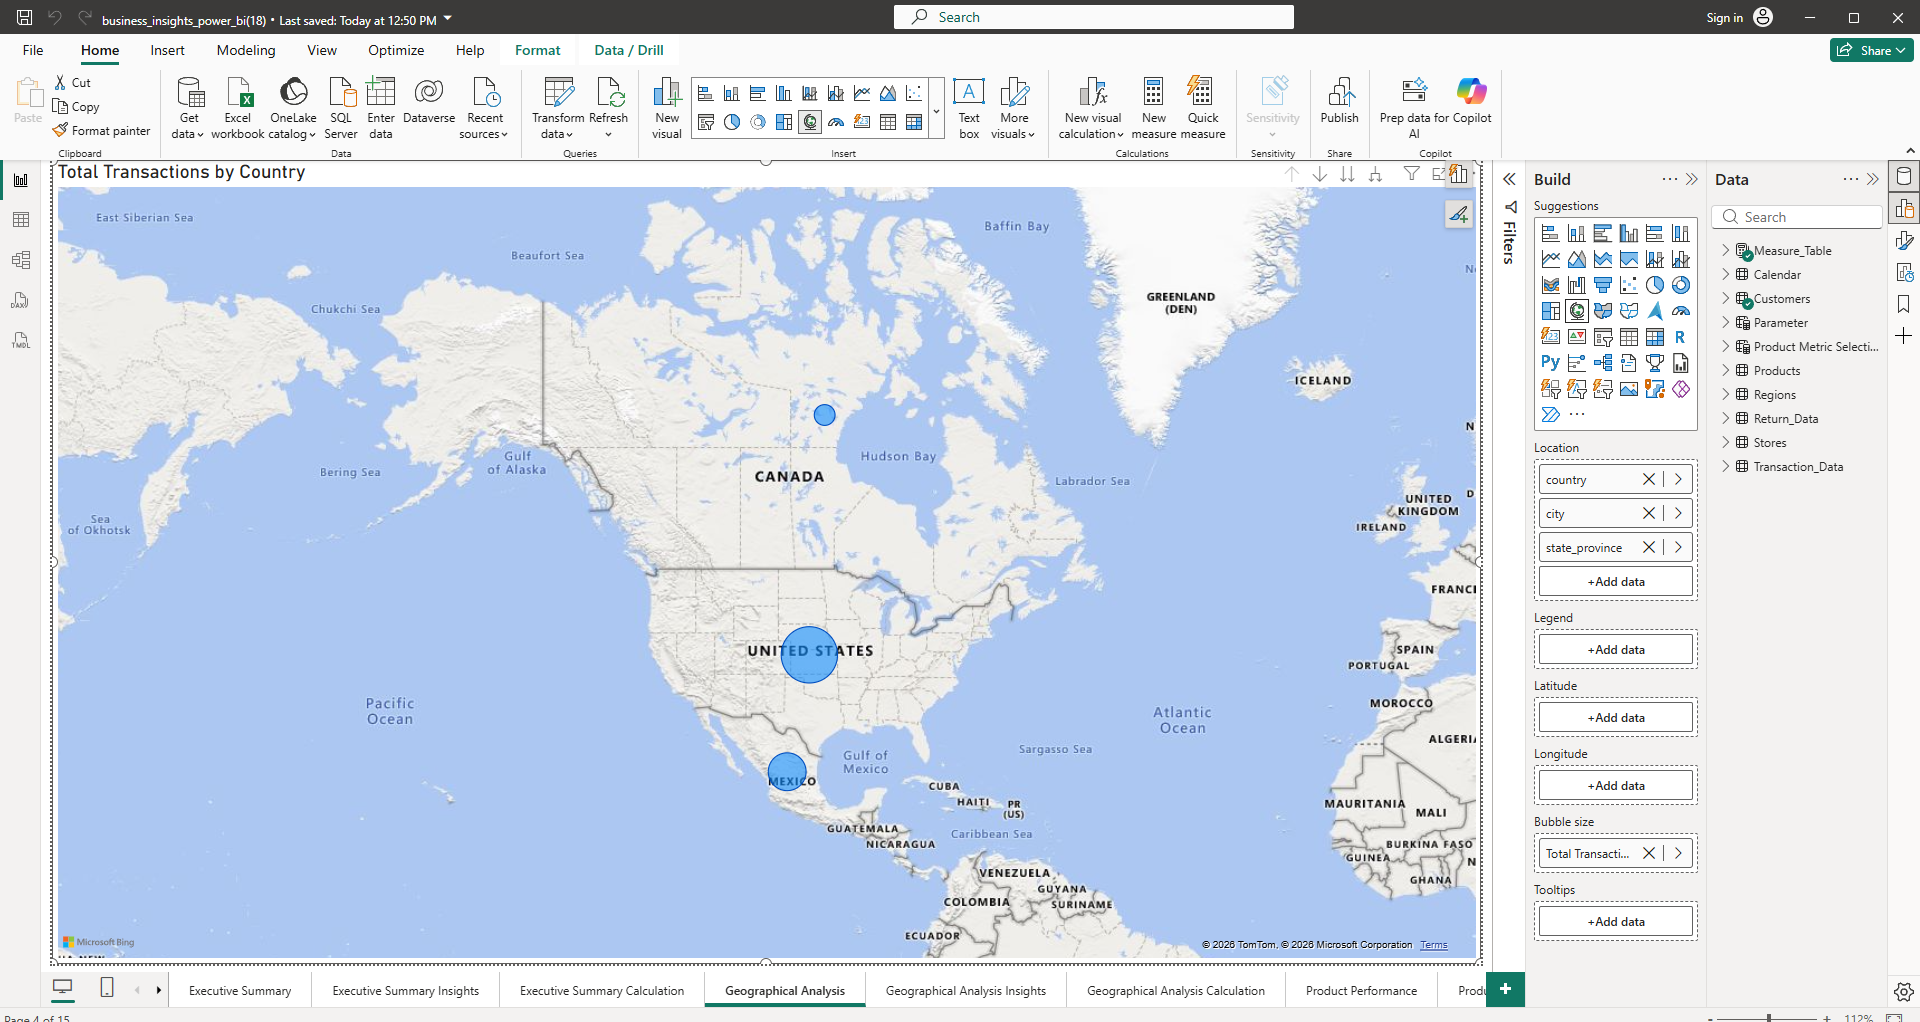

The dashboard page shown, as its layout file describes it:
{"tool":"powerbi","page":{"name":"Geographical Analysis","canvas":[1280,720],"ordinal":3},"visuals":[{"type":"map","title":"Total Transactions by Country","fields":{"Category":["Customers.customer_country","Customers.customer_city","Customers.customer_state_province"],"Size":["Measure_Table.Total Transactions"]},"box":[0,0,1280,720.3],"z":0}]}

Visuals, with their boxes on the page's 1280x720 design canvas (x1, y1, x2, y2). These are canvas units, not pixel positions in the 1920x1022 screenshot, which may show the page scaled, cropped or inside an application window:
"Total Transactions by Country" map: bbox(0, 0, 1280, 720)
